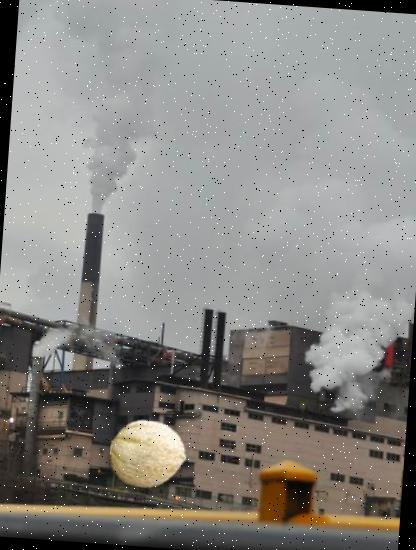Cantaloupe: (107, 414, 189, 496)
